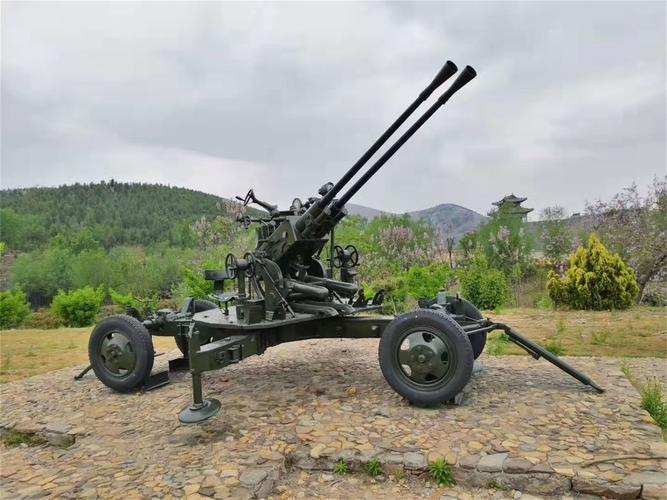MIL_SPG: (89, 61, 508, 423)
